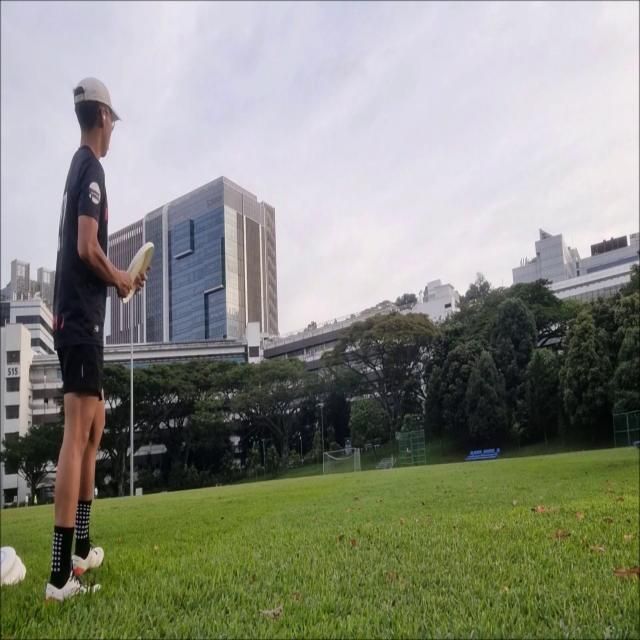disc: (120, 240, 155, 305)
